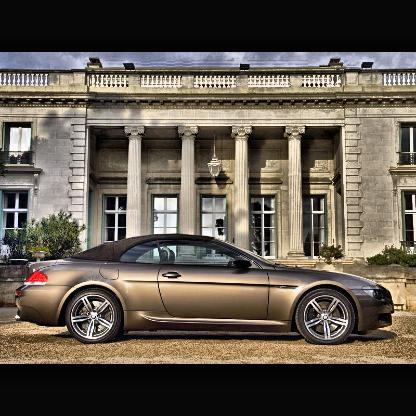BMW M6 Convertible 2010: (15, 235, 396, 346)
